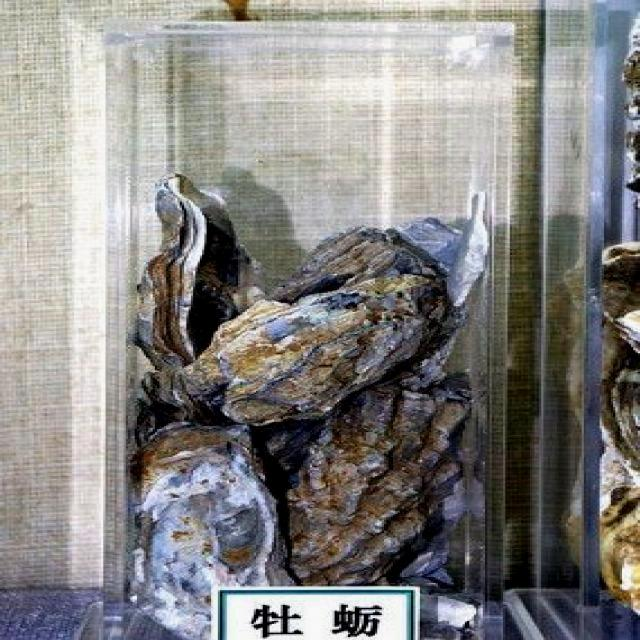Oyster-Closed: (276, 361, 487, 591), (168, 270, 453, 434), (121, 153, 288, 385), (263, 215, 473, 393), (119, 358, 213, 467)
Oyster-Open: (116, 410, 303, 640)
